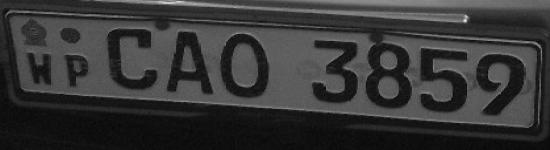3: (305, 34, 364, 108)
5: (419, 43, 474, 117)
8: (367, 40, 416, 110)
9: (475, 48, 530, 122)
A: (168, 27, 220, 100)
C: (104, 24, 162, 96)
O: (220, 28, 280, 102)
P: (62, 48, 95, 90)
W: (20, 46, 61, 89)
